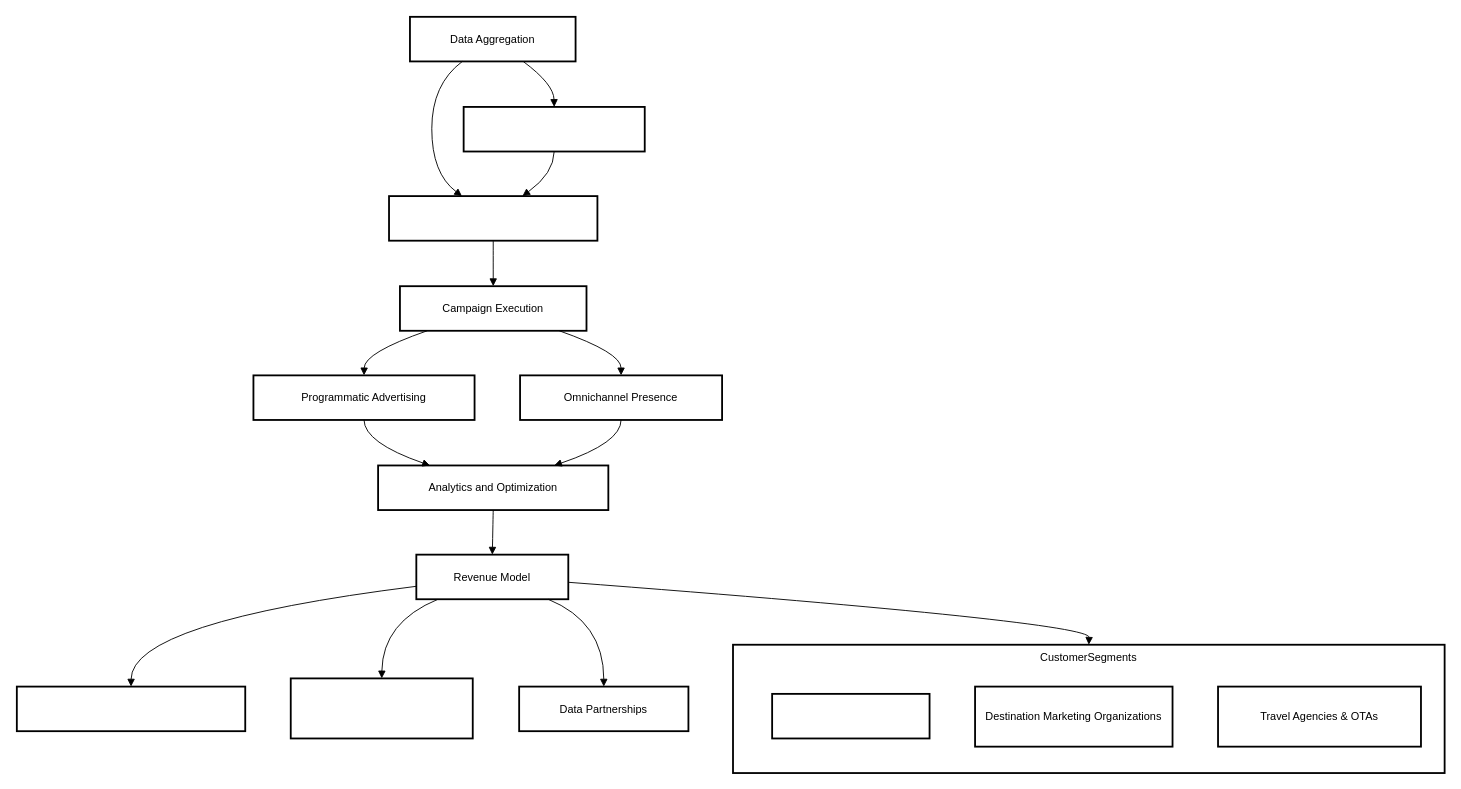
Image size: 1461x789. Some labels were removed from this diagram. The centre of each missing label's shape, as x and y in pixels:
Audience Segmentation: (493,218)
Insights Generation: (553,129)
Performance-Based Pricing: (130,708)
Subscription & Retainer Models: (381,708)
Travel Suppliers: (850,716)
